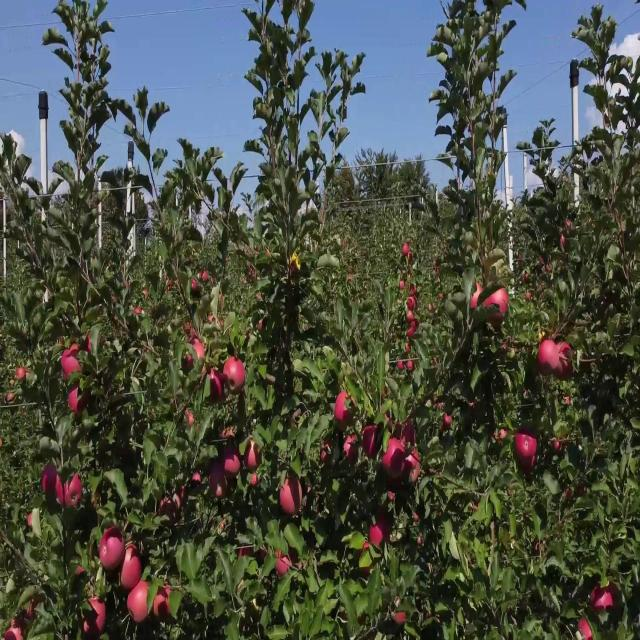apple: (100, 526, 125, 571), (280, 476, 306, 517), (120, 547, 143, 590), (128, 583, 149, 626), (336, 391, 359, 428), (384, 440, 406, 478), (224, 355, 247, 391), (516, 433, 539, 468), (488, 291, 510, 327), (556, 341, 576, 380), (88, 597, 108, 633), (208, 462, 227, 498), (60, 348, 81, 379), (404, 447, 421, 484), (592, 590, 615, 617), (540, 341, 557, 377), (156, 583, 172, 619), (372, 519, 391, 548), (208, 369, 224, 400), (68, 476, 84, 507), (364, 426, 379, 459), (244, 440, 261, 469), (224, 447, 240, 476), (344, 433, 360, 462), (400, 419, 416, 448), (360, 540, 372, 578), (84, 334, 104, 356), (160, 497, 178, 521), (28, 597, 46, 620), (308, 483, 322, 512), (212, 476, 230, 498), (276, 554, 292, 578), (44, 469, 58, 496), (72, 391, 86, 416), (396, 597, 408, 626), (56, 476, 67, 507), (8, 618, 24, 639), (192, 341, 207, 363), (472, 284, 484, 311), (220, 426, 236, 444), (176, 483, 188, 507), (572, 483, 588, 501), (320, 440, 333, 462), (440, 412, 452, 434), (580, 618, 593, 638), (80, 391, 91, 412), (408, 319, 419, 338), (576, 483, 588, 500), (492, 433, 508, 444), (192, 469, 203, 485), (184, 355, 194, 372), (184, 327, 196, 341), (72, 341, 81, 357), (188, 412, 197, 427), (388, 490, 396, 505), (556, 440, 563, 455), (252, 476, 260, 487), (408, 362, 416, 372), (28, 511, 32, 526), (260, 319, 264, 332)
